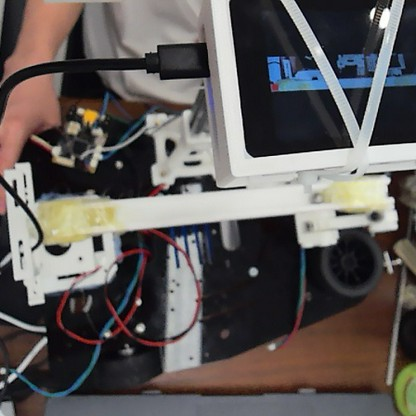ironball: (308, 189, 325, 205)
